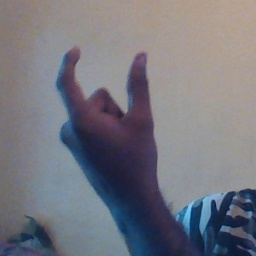U: (50, 40, 166, 184)
